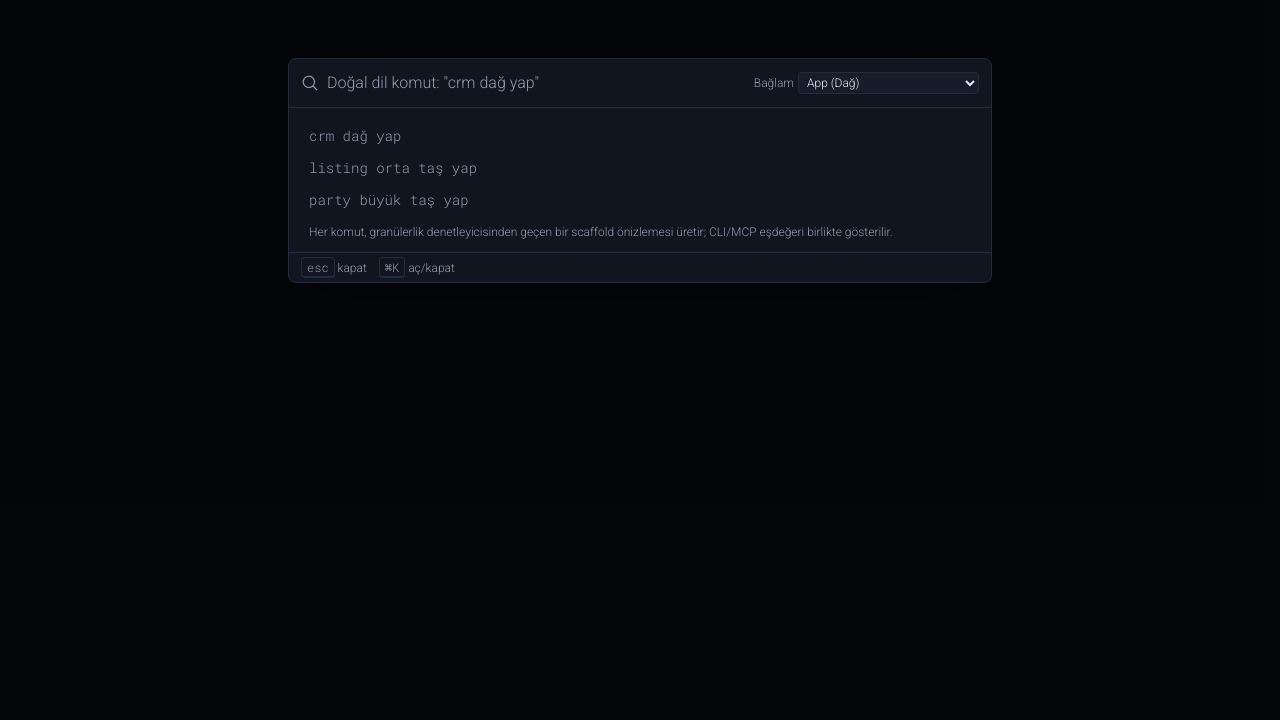
it: CommandPalette (⌘K) sözleşmesi › doğal dil → scaffold ÖNİZLEME (yazma yok) + CLI eşdeğeri
This screenshot has width=1280, height=720.
Type "crm kaya yap" into the dropdown labelled "Doğal dil komut: \"crm dağ yap\"". click: (536, 83)
box: left=327, top=67, right=746, bottom=99
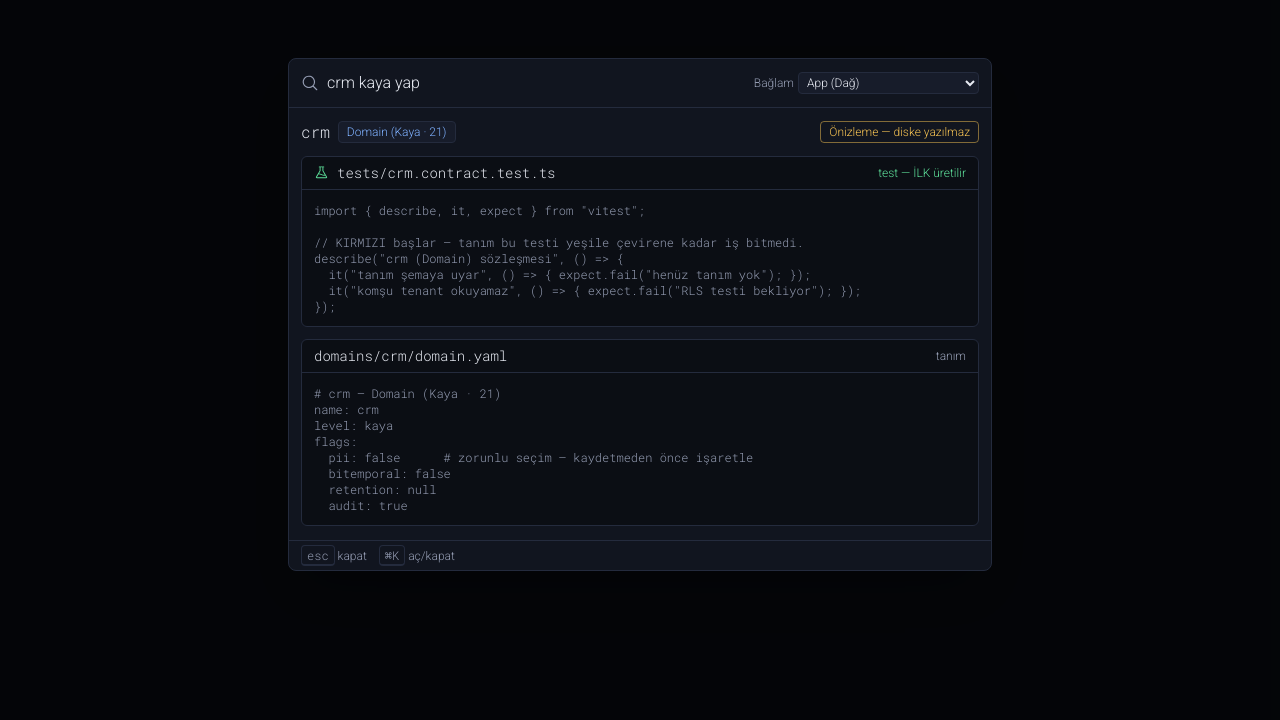
expect the element with test id "scaffold-file" shows "tests/crm.contract.test.ts": met, box left=337, top=163, right=555, bottom=182
expect the text "Önizleme — diske yazılmaz" is shown: met, box left=820, top=121, right=979, bottom=143
